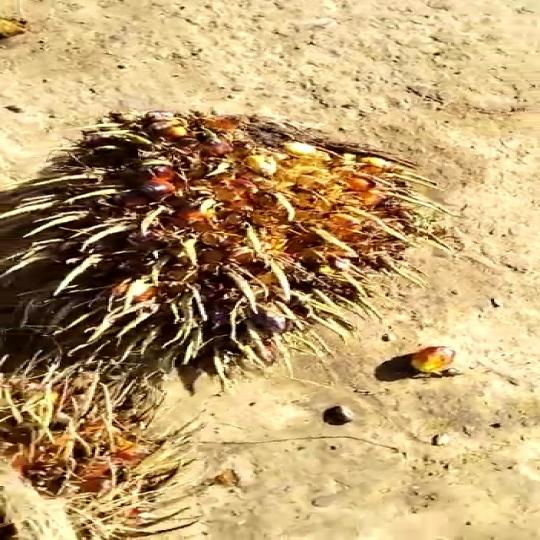terlalu masak: (0, 97, 472, 390)
